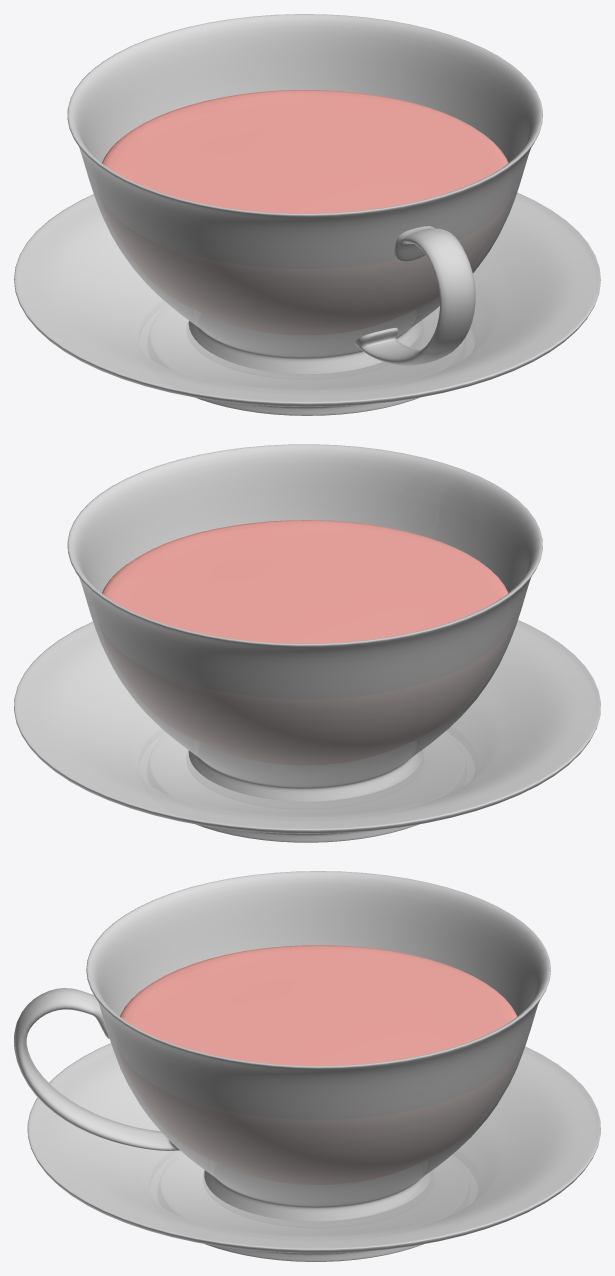
File: cup.fbx
3 renders of one model, top to bottom at view 1: azimuth 30°, elevation 25°; view 2: azimuth 150°, elevation 25°; view 3: azimuth 270°, elevation 25°, orthographic. The views are drawn at different scales.
Visible parts, largest first — view 1: Coffee; view 2: Coffee; view 3: Coffee.
Boxes of the visible parts, bbox=[...] form: Coffee: bbox=[14, 14, 600, 415]; Coffee: bbox=[14, 444, 600, 842]; Coffee: bbox=[14, 871, 600, 1261].
Size of the model in its own units: 61.92 by 26.71 by 63.37.
